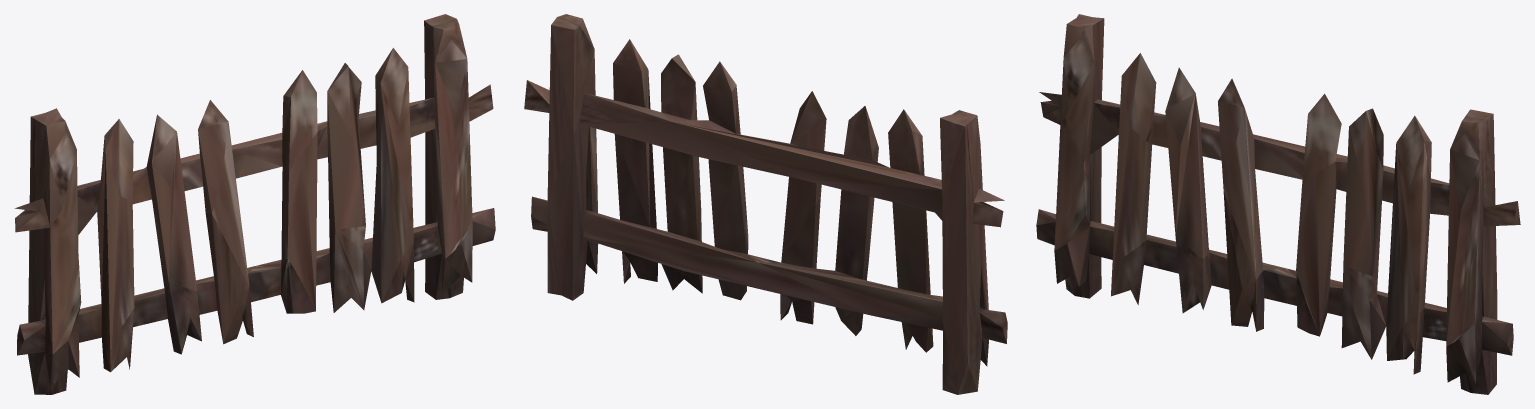
File: bg_field_fence_1_lod1.glb
3 views of the same model, side by side, from view 1: azimuth 30°, elevation 25°; view 2: azimuth 150°, elevation 25°; view 3: azimuth 330°, elevation 25° (orthographic).
Visible parts, largest first — view 1: body; view 2: body; view 3: body.
Part boxes in pixels (x1,y1,x2,y2): body: [14, 14, 495, 394]; body: [524, 14, 1007, 394]; body: [1036, 14, 1520, 394].
Bounding box in the file's own units: 2.36 × 1.29 × 0.2149.
1 material, 1 textured.
